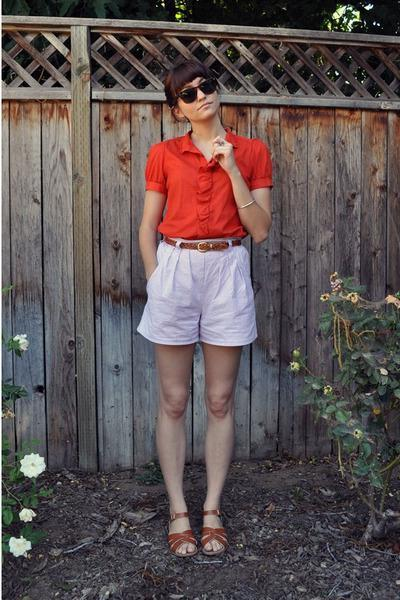Shorts: (135, 240, 262, 350)
short sleeve shirt: (142, 133, 277, 241)
